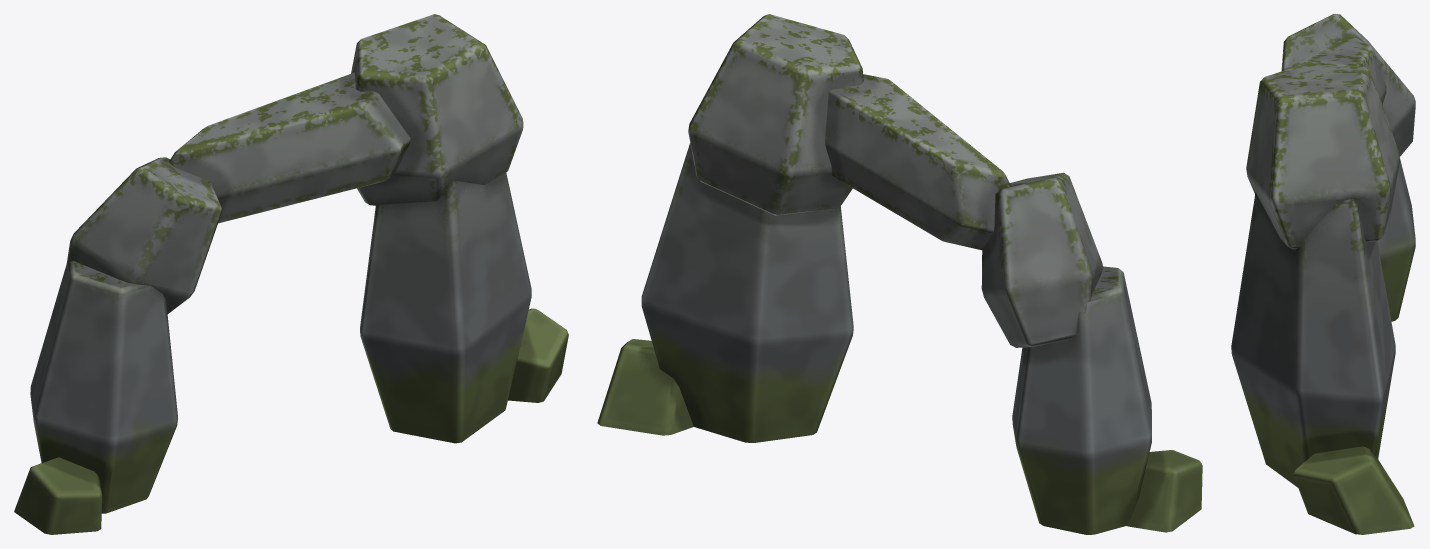
File: arch_3_mossy.glb
The picture shows the model from 3 angles, left to right: view 1: azimuth 30°, elevation 25°; view 2: azimuth 150°, elevation 25°; view 3: azimuth 270°, elevation 25°; orthographic projection.
Visible parts, largest first — view 1: arch_3_mossy; view 2: arch_3_mossy; view 3: arch_3_mossy.
Boxes of the visible parts, x1,y1,x2,y2 form: arch_3_mossy: (14, 14, 568, 534); arch_3_mossy: (597, 14, 1202, 534); arch_3_mossy: (1231, 14, 1415, 534).
Bounding box in the file's own units: 5.8 × 3.9 × 1.7.
1 material, 1 textured.
